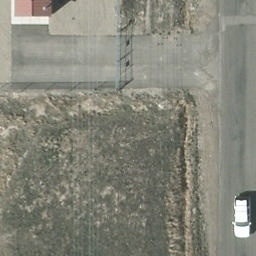car: (232, 194, 252, 239)
